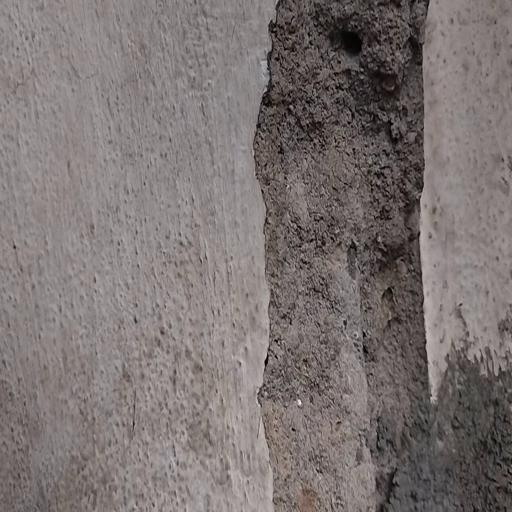spalling: (229, 2, 512, 512)
